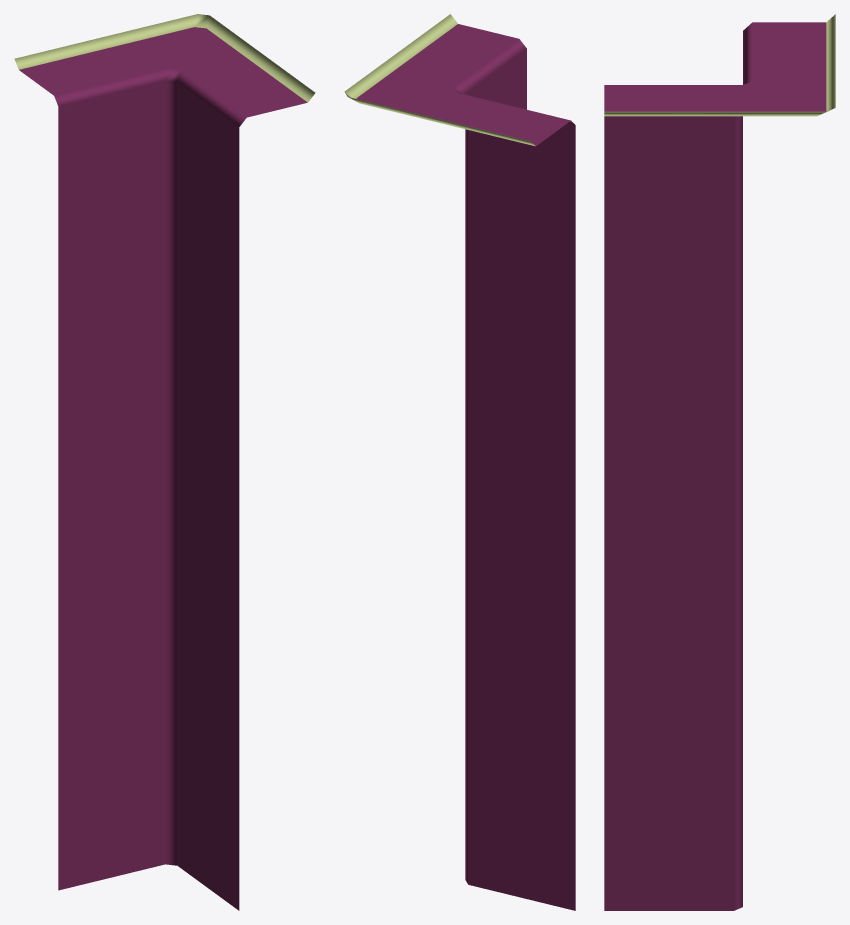
The model's file is SocketOut_CornerIn_0.25x1.0.obj.
3 views of the same model, side by side, from view 1: azimuth 30°, elevation 25°; view 2: azimuth 150°, elevation 25°; view 3: azimuth 270°, elevation 25° (orthographic). The views are drawn at different scales.
Parts seen in each view (by area): view 1: SocketOut_CornerIn_0.25x1.0; view 2: SocketOut_CornerIn_0.25x1.0; view 3: SocketOut_CornerIn_0.25x1.0.
Part boxes in pixels (bbox=[...]): SocketOut_CornerIn_0.25x1.0: bbox=[14, 14, 315, 910]; SocketOut_CornerIn_0.25x1.0: bbox=[344, 14, 575, 910]; SocketOut_CornerIn_0.25x1.0: bbox=[604, 14, 835, 910].
Size of the model in its own units: 0.25 by 1 by 0.25.
